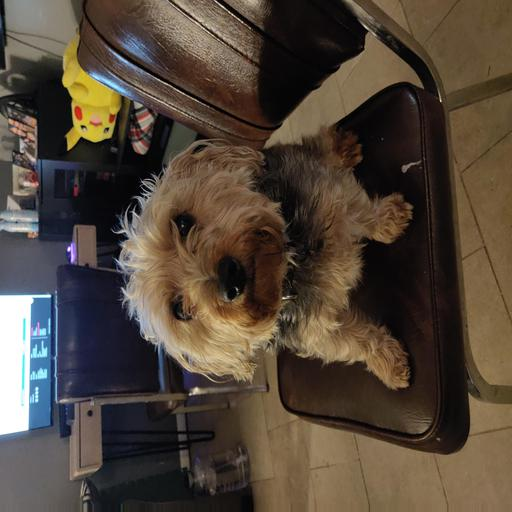dog: (103, 137, 352, 386)
